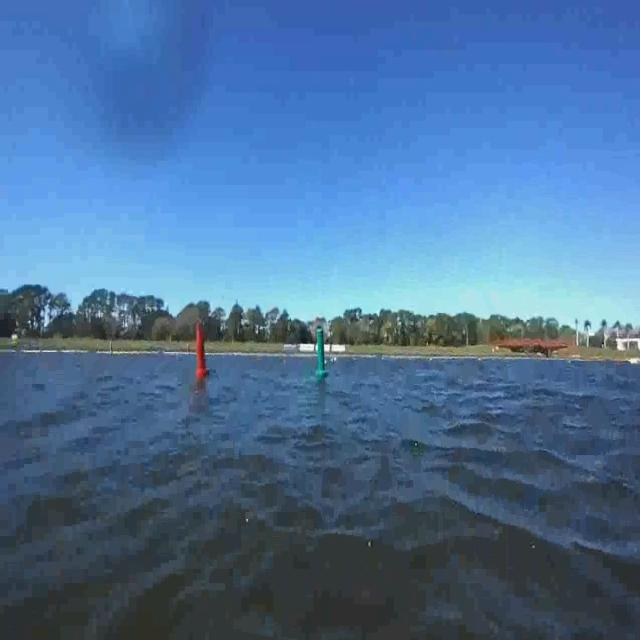green-column-buoy: (314, 326, 329, 377)
red-column-buoy: (194, 321, 211, 378)
